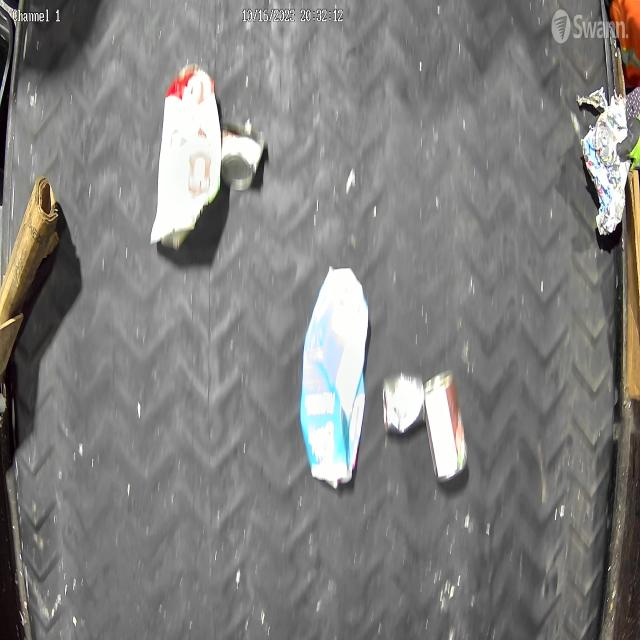can: (424, 368, 469, 483), (220, 117, 266, 191), (382, 370, 425, 436)
non_white_jug: (300, 263, 370, 491)
